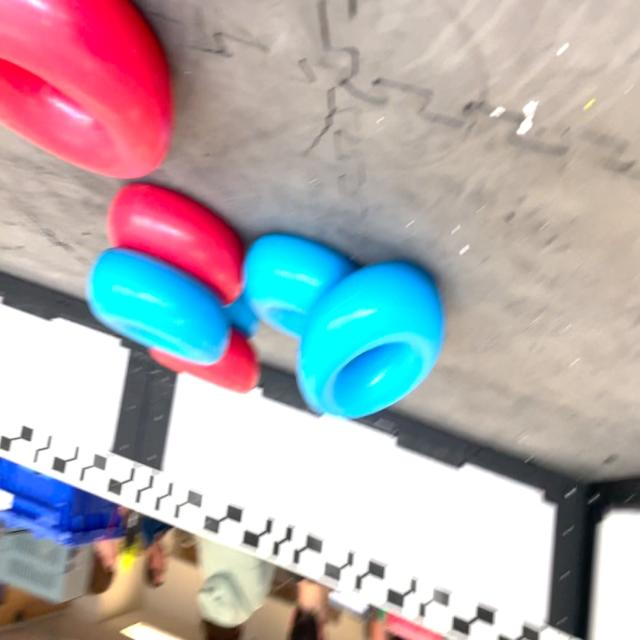Blue-Ring: (298, 262, 445, 418), (86, 249, 229, 364), (244, 233, 352, 336)
Red-Ring: (0, 0, 174, 178), (106, 182, 244, 304), (149, 329, 260, 393)
